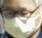with_mask: (1, 1, 42, 38)
